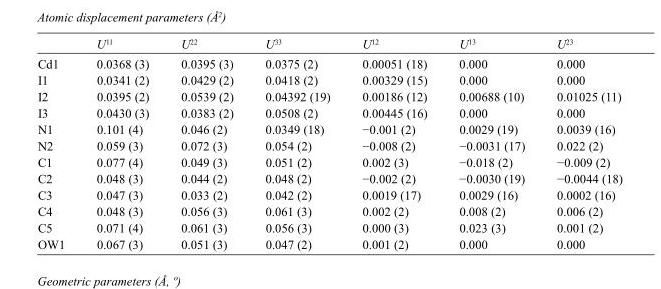table: (36, 36, 622, 250)
table column: (442, 36, 540, 250), (248, 36, 345, 250), (345, 36, 442, 250), (80, 36, 164, 250), (164, 36, 248, 250), (540, 36, 622, 250), (36, 36, 80, 250)
table column header: (36, 36, 622, 53)
table row: (36, 53, 622, 71), (36, 36, 622, 53), (36, 71, 622, 88), (36, 120, 622, 137), (36, 153, 622, 170), (36, 186, 622, 203), (36, 88, 622, 104), (36, 104, 622, 120), (36, 137, 622, 153), (36, 170, 622, 186), (36, 203, 622, 219), (36, 219, 622, 235), (36, 235, 622, 250)
